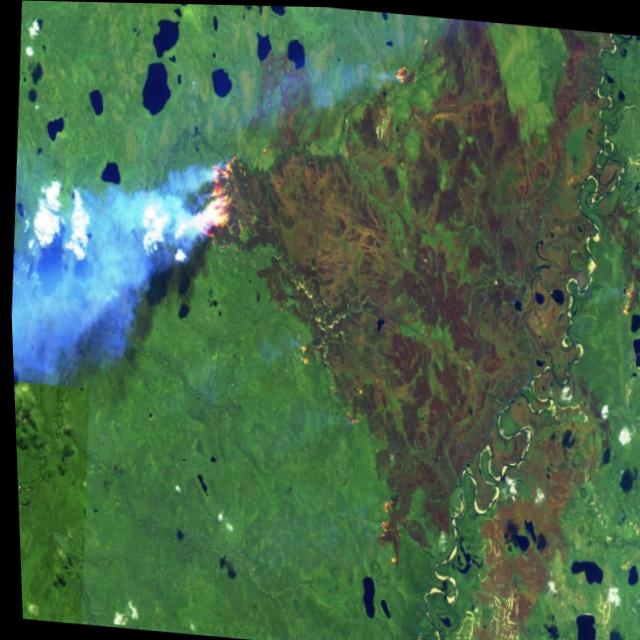fire: (175, 136, 255, 264), (364, 483, 402, 572), (384, 52, 424, 94), (288, 328, 318, 373), (610, 274, 638, 320)
